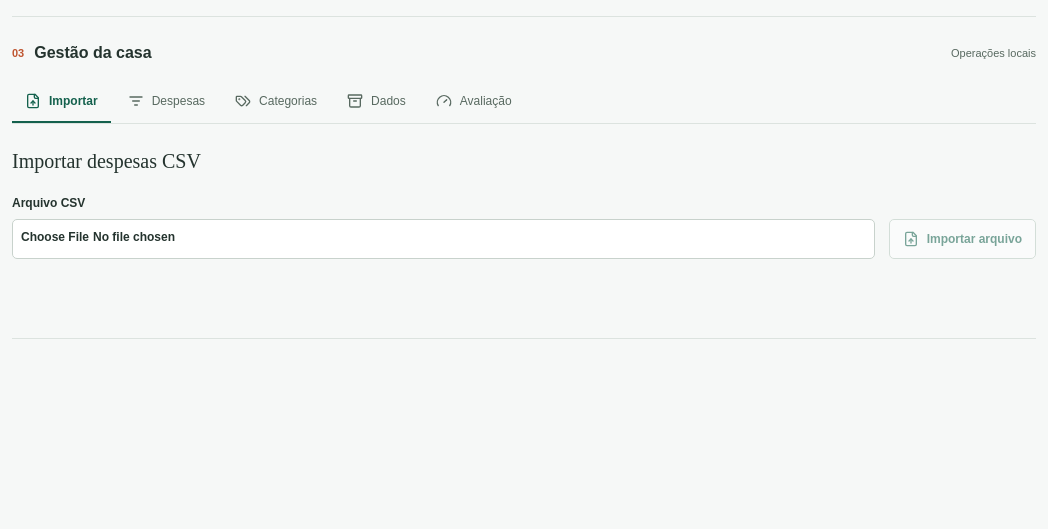
Test: household operations › creates a child category under a top-level category
This screenshot has width=1048, height=529.
Step 1. Click the tab "Categorias" → (276, 102), box [222, 81, 330, 123]
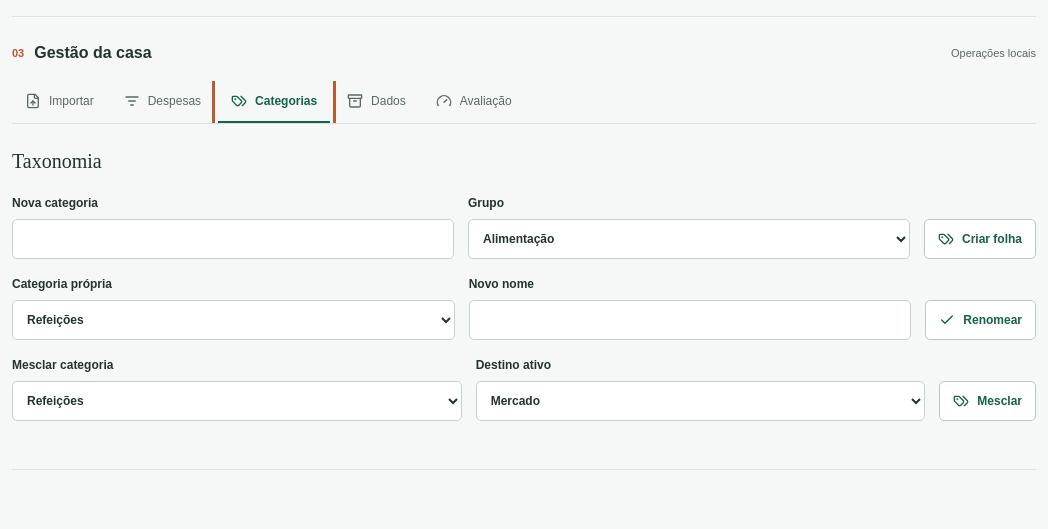
Step 2. Type "Feira" into the field labelled "Nova categoria" → (233, 239), box [12, 219, 454, 259]
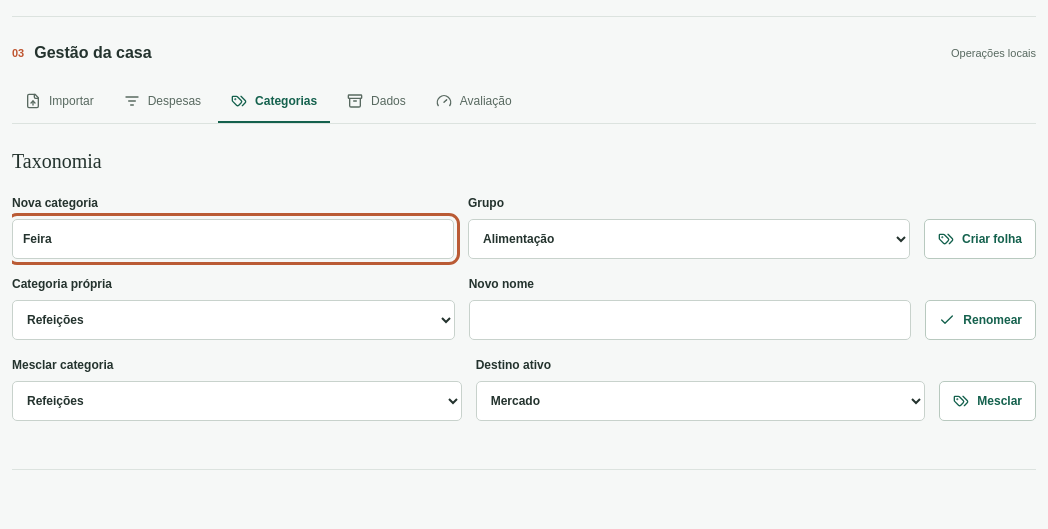
Step 3. Click the button "Criar folha" → (980, 239), box [924, 219, 1036, 259]
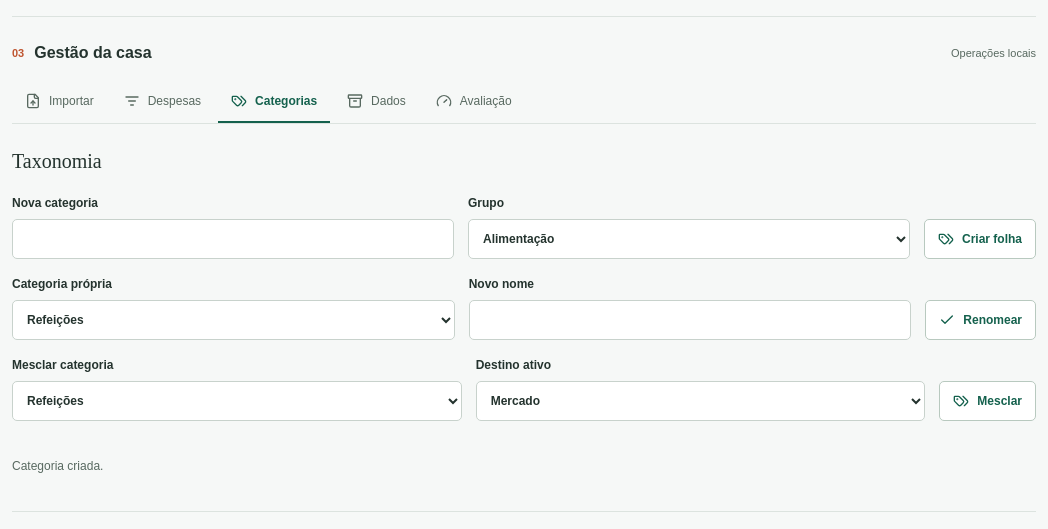
Expected: the text "Categoria criada." is shown, [12, 459, 103, 473]
